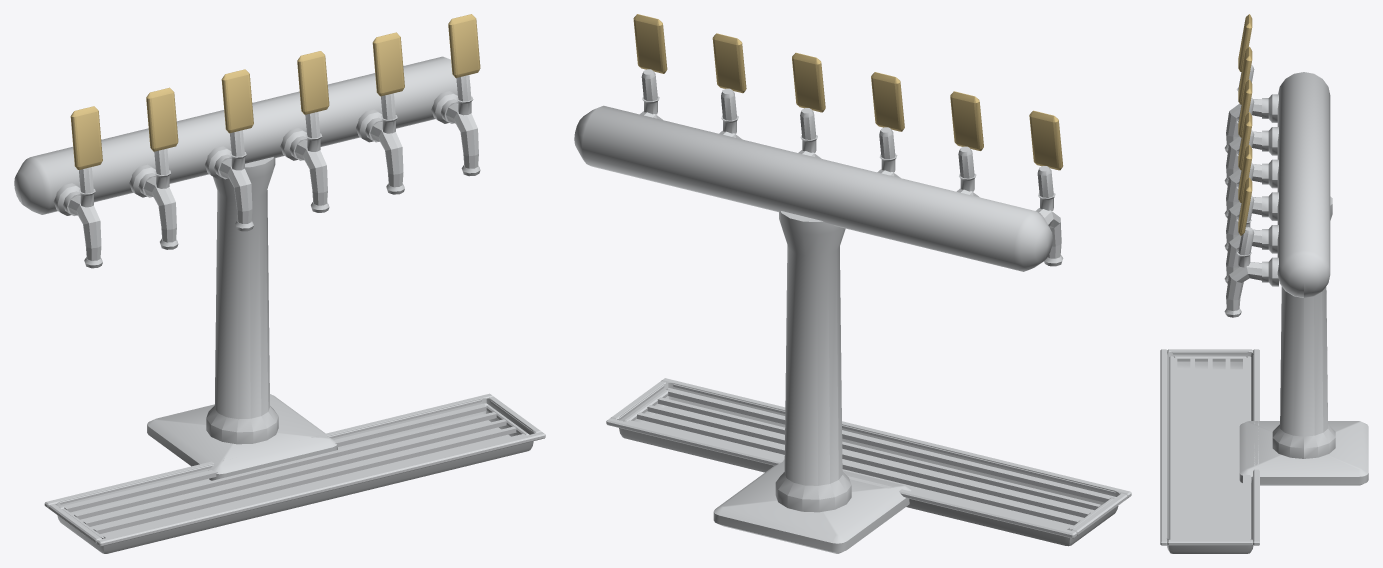
File: bar-pub-and-brewery-taproom-tap-font-t-bar-7e905ac8__18346.glb
The picture shows the model from 3 angles, left to right: view 1: azimuth 30°, elevation 25°; view 2: azimuth 150°, elevation 25°; view 3: azimuth 270°, elevation 25°; orthographic projection. The views are drawn at different scales.
Parts seen in each view (by area): view 1: tap-font-t-bar; view 2: tap-font-t-bar; view 3: tap-font-t-bar.
Boxes of the visible parts, <box> form: tap-font-t-bar: <box>14,14,545,553</box>; tap-font-t-bar: <box>574,14,1131,553</box>; tap-font-t-bar: <box>1160,14,1368,553</box>.
Size of the model in its own units: 0.78 by 0.6799 by 0.355.
